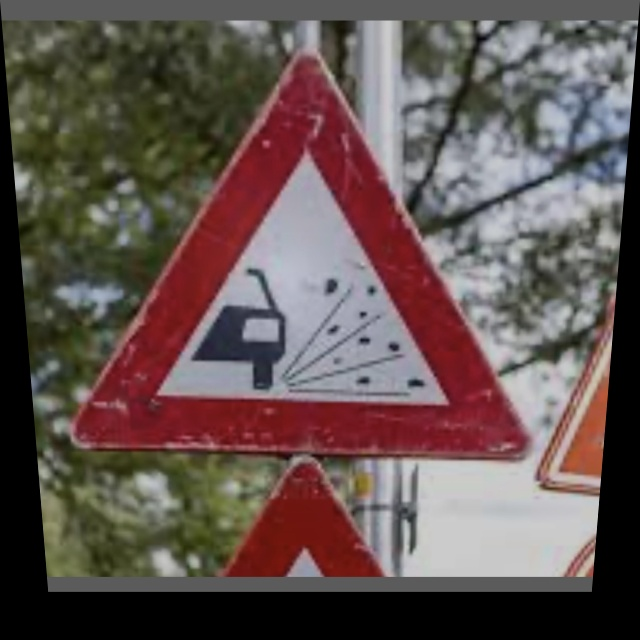Loose_Gravel: (62, 54, 554, 457)
